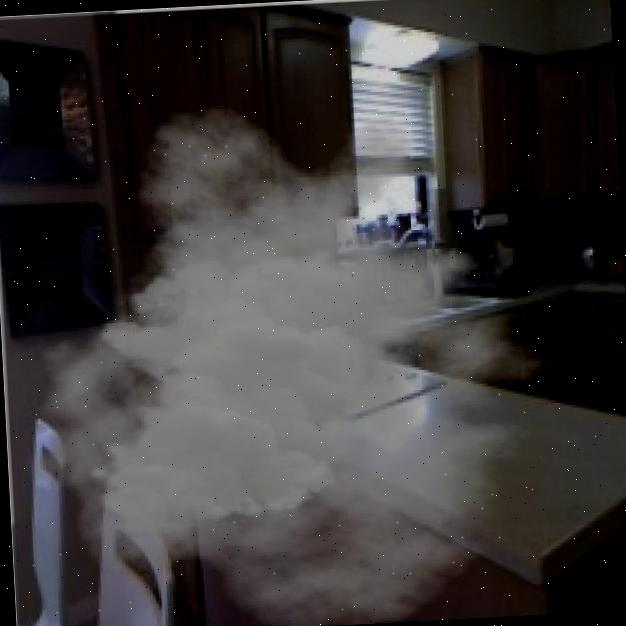smoke: (7, 84, 594, 626)
